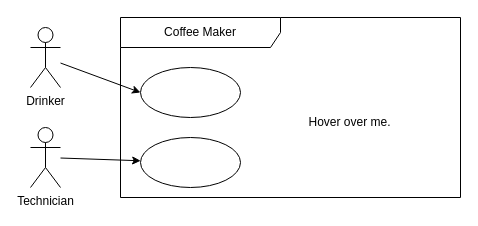
Image size: 478x226. Some labels were removed from this diagram. Here are the shapes that lost their labels. From the top down, the box of each, then its label:
(140, 66, 240, 118): Make Coffee
(140, 136, 240, 188): Fill Water
